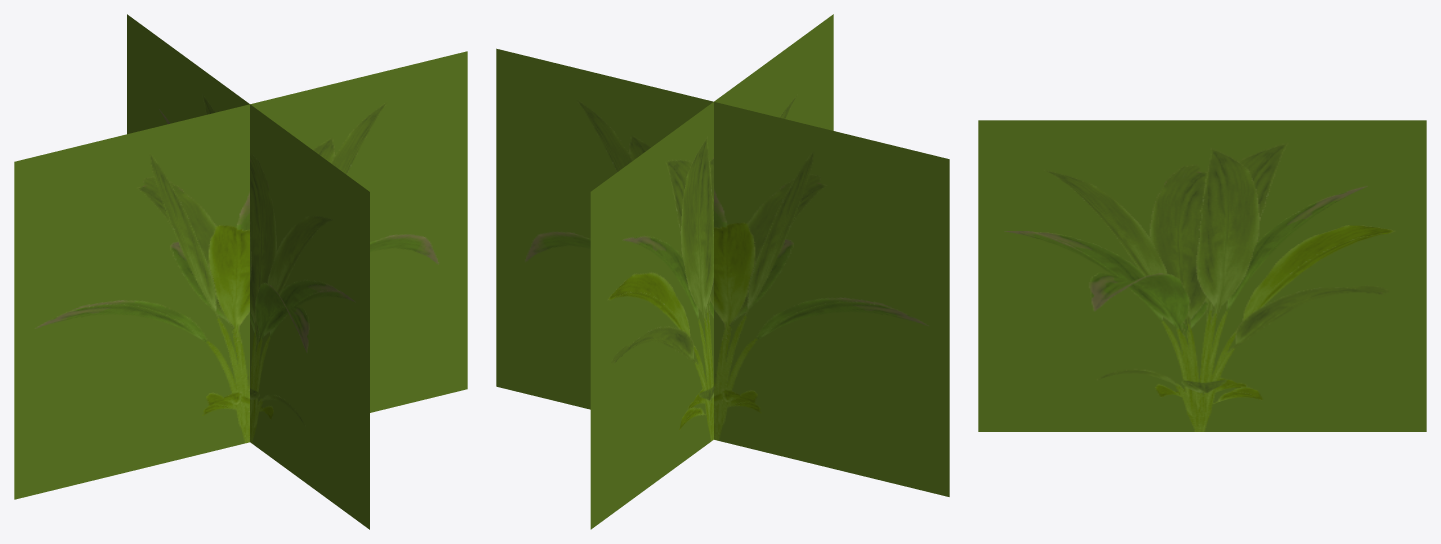
Rendered from EchinodorusBleheri.glb.
3 renders of one model, left to right at view 1: azimuth 30°, elevation 25°; view 2: azimuth 150°, elevation 25°; view 3: azimuth 270°, elevation 25°, orthographic. The views are drawn at different scales.
Visible parts, largest first — view 1: mesh__mat_billboard_5; view 2: mesh__mat_billboard_5; view 3: mesh__mat_billboard_5.
Part boxes in pixels (bbox=[...]): mesh__mat_billboard_5: bbox=[14, 14, 467, 529]; mesh__mat_billboard_5: bbox=[496, 14, 949, 529]; mesh__mat_billboard_5: bbox=[978, 120, 1426, 431].
Size of the model in its own units: 1.42 by 1.01 by 1.32.
Materials: 1 (1 with a texture image).
